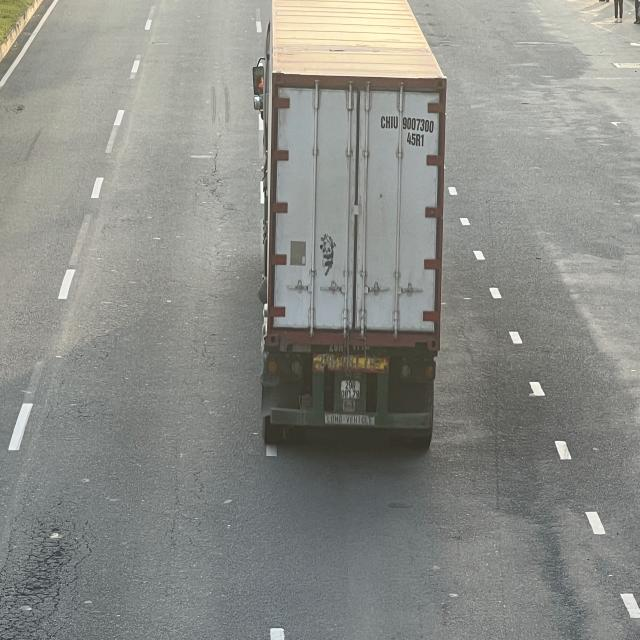container: (251, 0, 452, 441)
